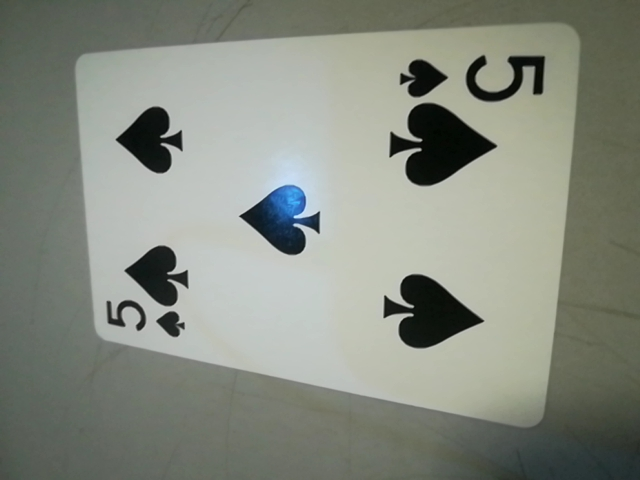ht 5: (390, 48, 561, 115)
